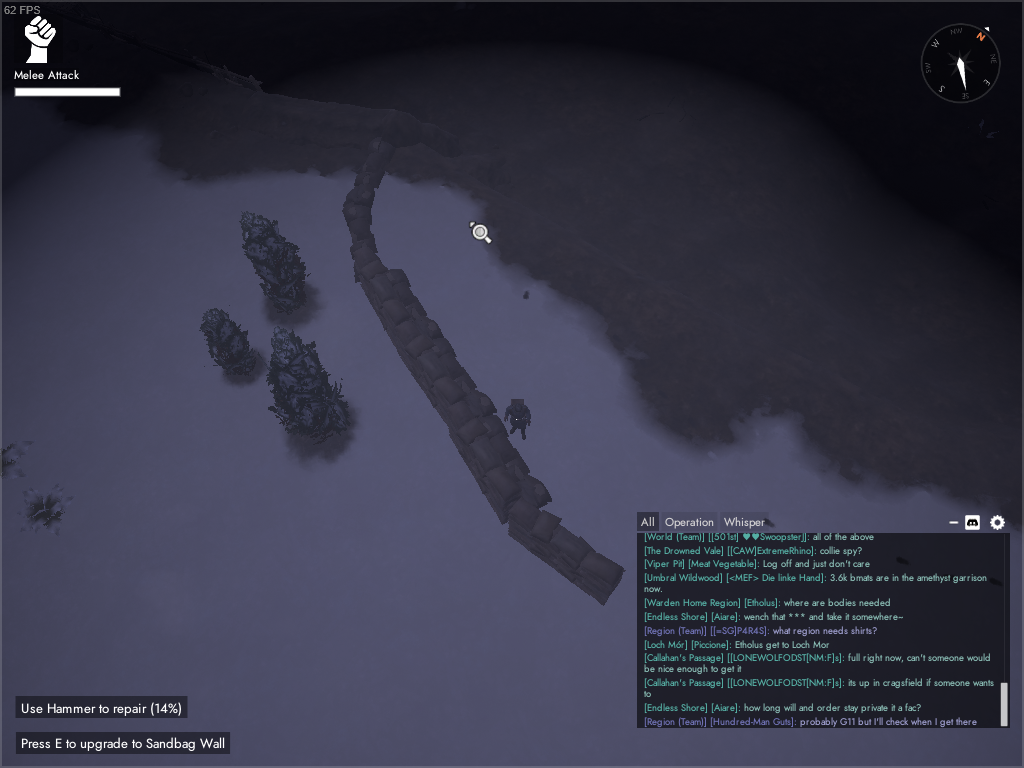player: (503, 398, 532, 441)
sandbag: (443, 389, 554, 524), (361, 269, 473, 401), (507, 496, 625, 607), (340, 137, 394, 218), (340, 210, 391, 286)
